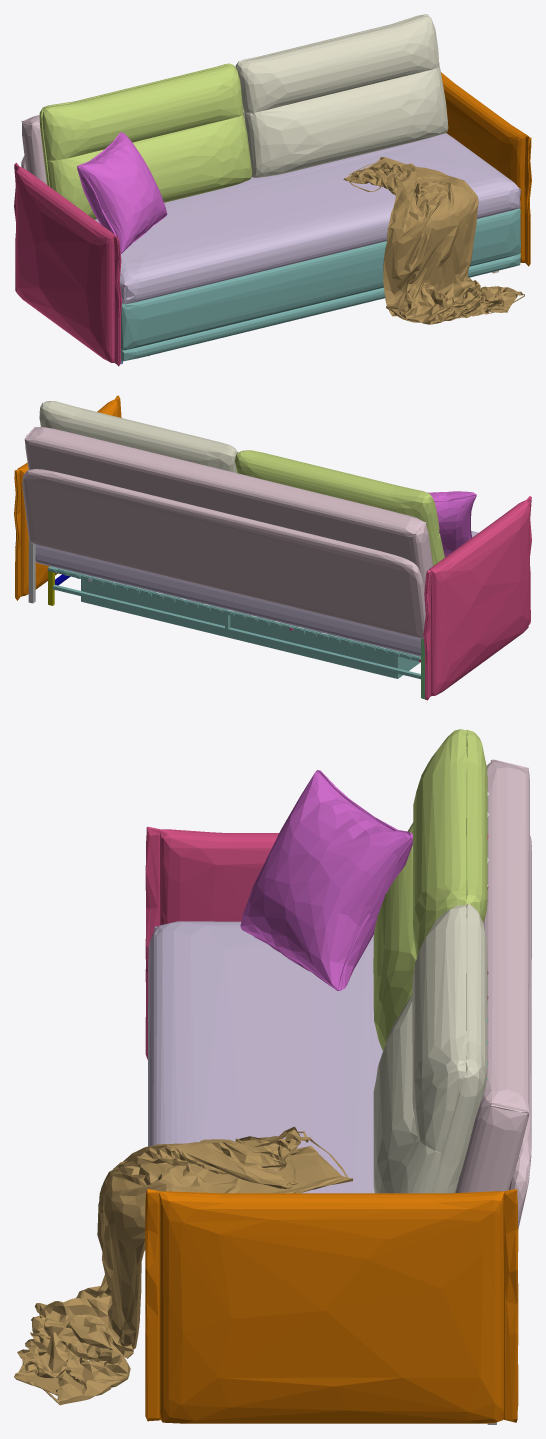
3 views of the same model, one above another, from view 1: azimuth 30°, elevation 25°; view 2: azimuth 150°, elevation 25°; view 3: azimuth 270°, elevation 25° (orthographic). The views are drawn at different scales.
Parts seen in each view (by area): view 1: pred_mesh_gc.ply; view 2: pred_mesh_gc.ply; view 3: pred_mesh_gc.ply.
Part boxes in pixels (bbox=[...]): pred_mesh_gc.ply: bbox=[14, 14, 531, 366]; pred_mesh_gc.ply: bbox=[14, 395, 531, 700]; pred_mesh_gc.ply: bbox=[14, 729, 531, 1424].
Bounding box in the file's own units: 0.8131 × 0.3515 × 0.4641.
